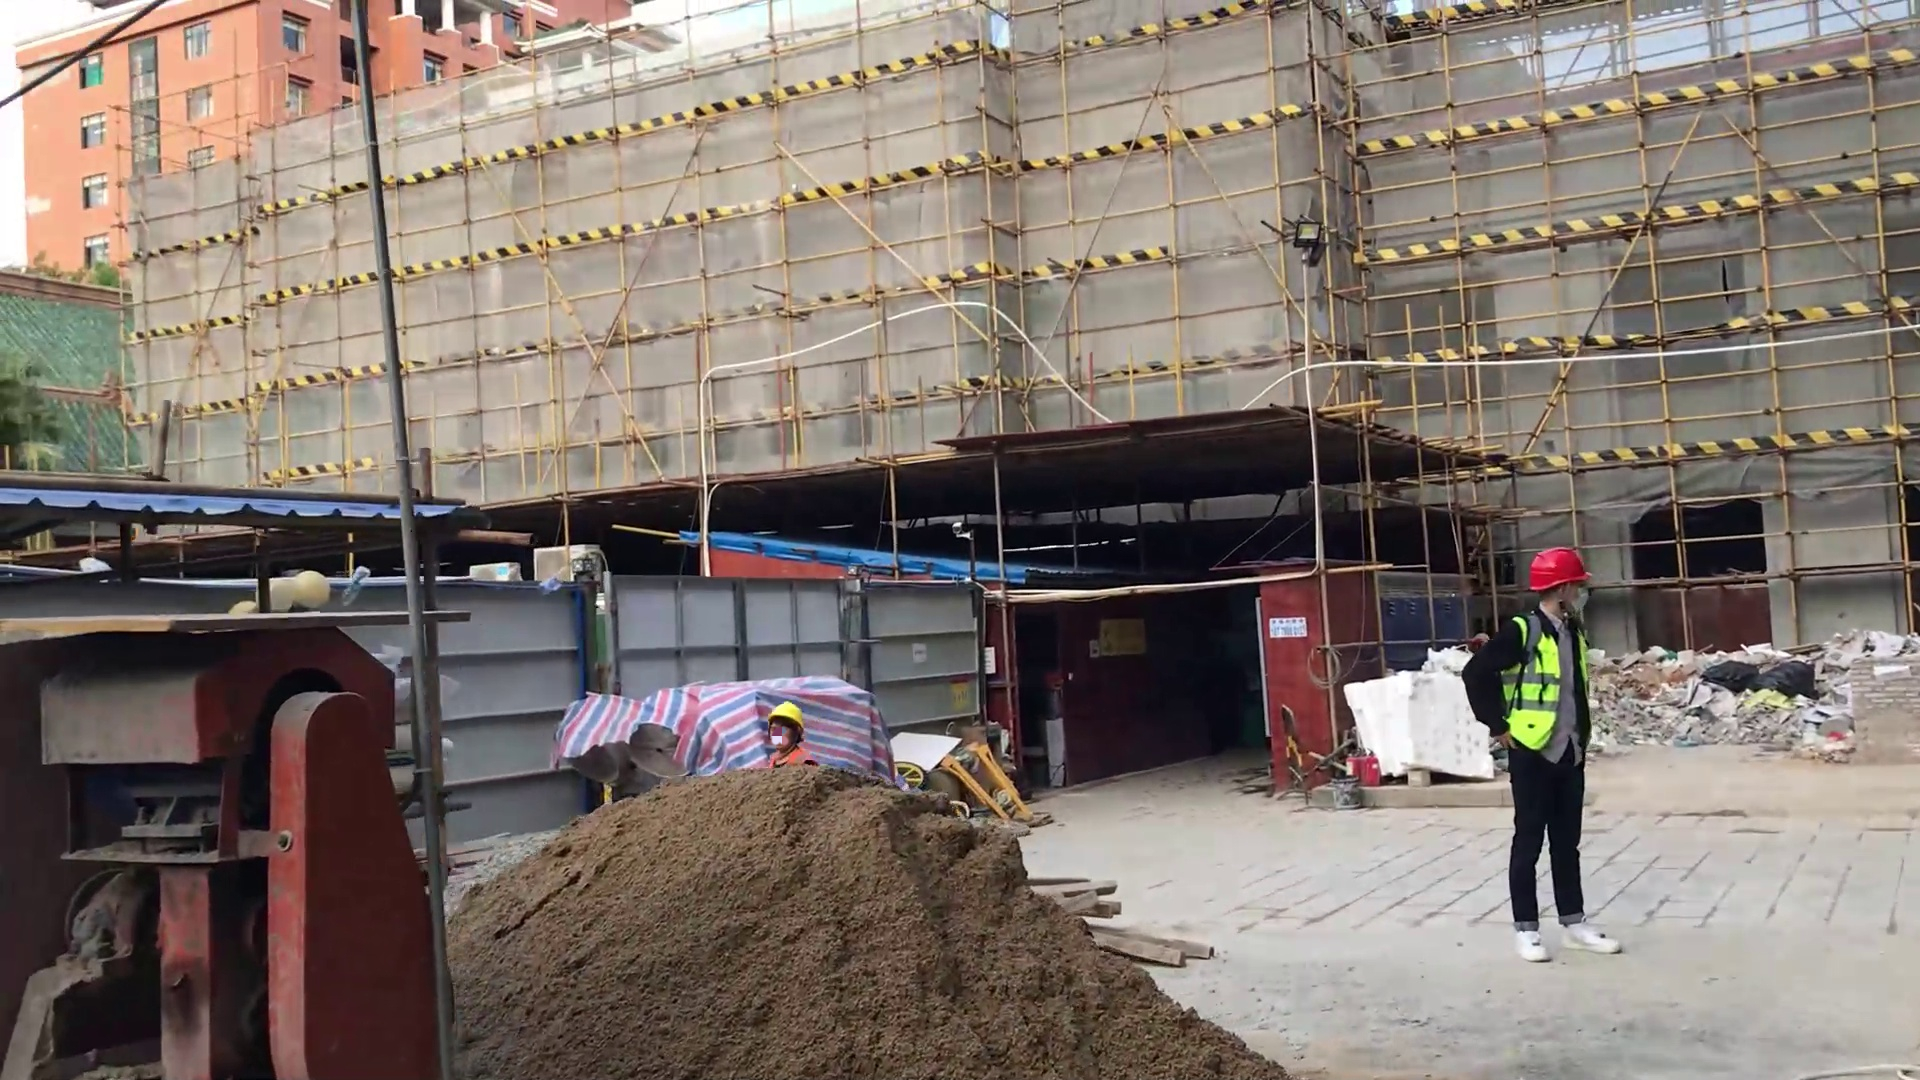helmet: (1519, 549, 1601, 604), (762, 690, 815, 734)
person: (1455, 543, 1654, 969), (751, 689, 821, 776)
vest: (1495, 609, 1589, 772)
